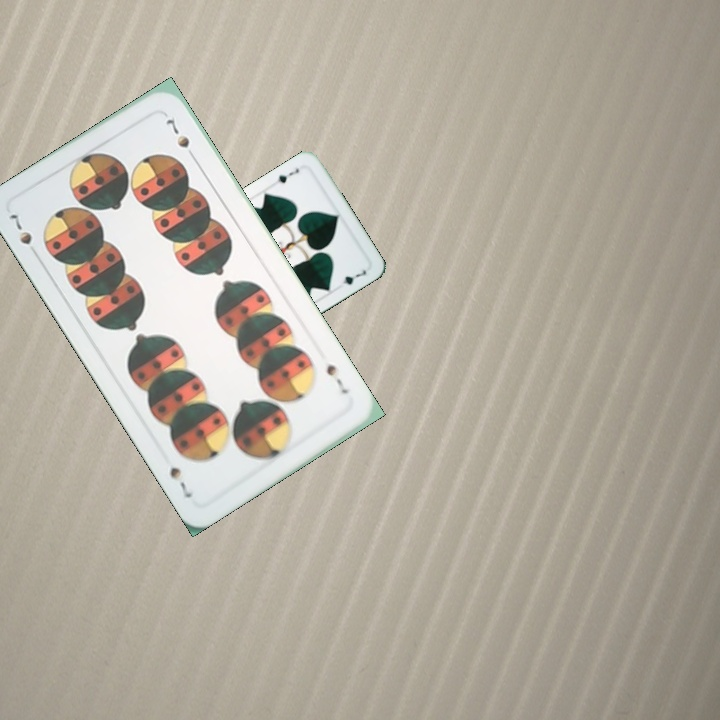G7: (274, 164, 302, 186)
S7: (5, 210, 35, 248), (322, 360, 352, 397)
